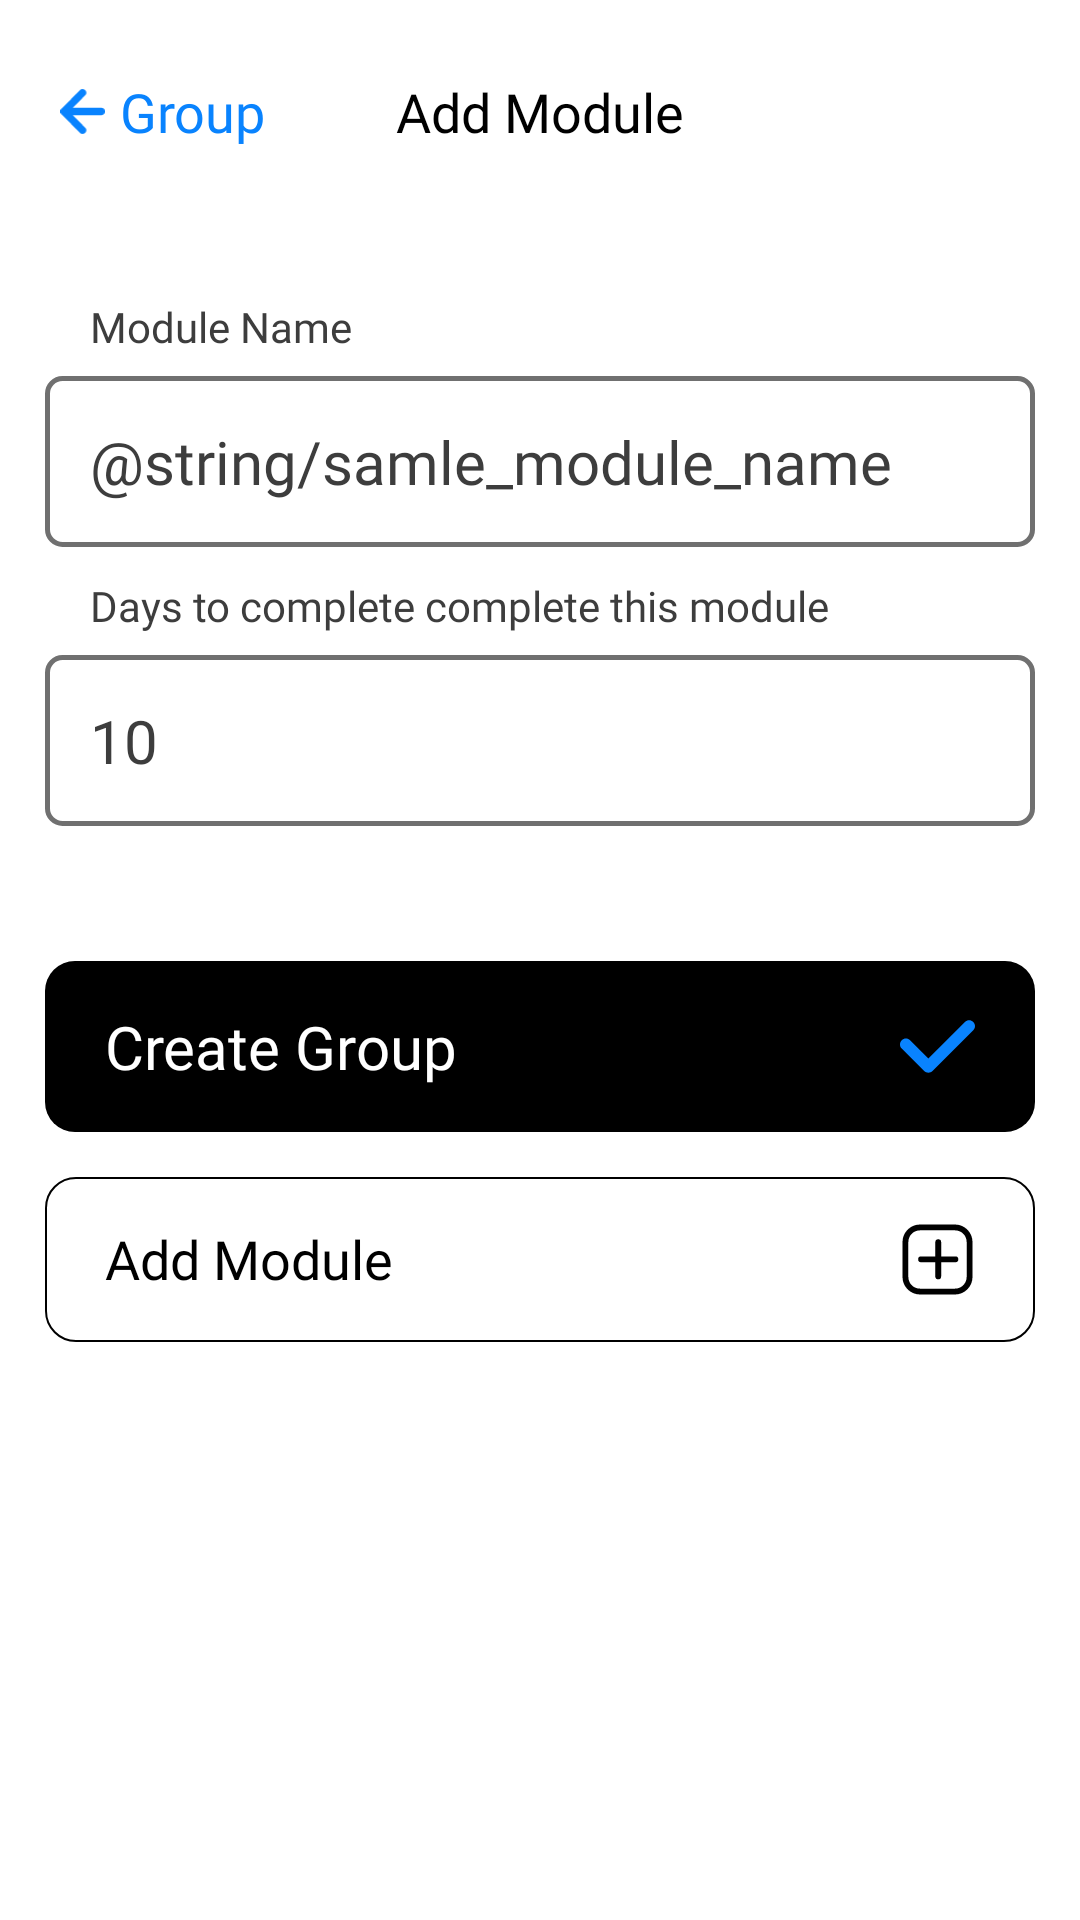

Named icons in this screenshot (1080x1920) and their centers, (x=x, y=y):
addnewone: (x=937, y=1259)
arrow left: (x=82, y=111)
right: (x=937, y=1046)
